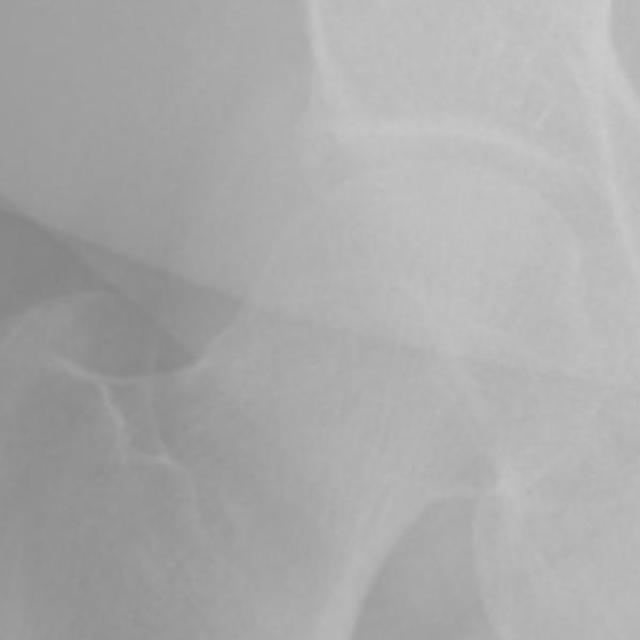Fitted_femural_head: (360, 155, 432, 360)
